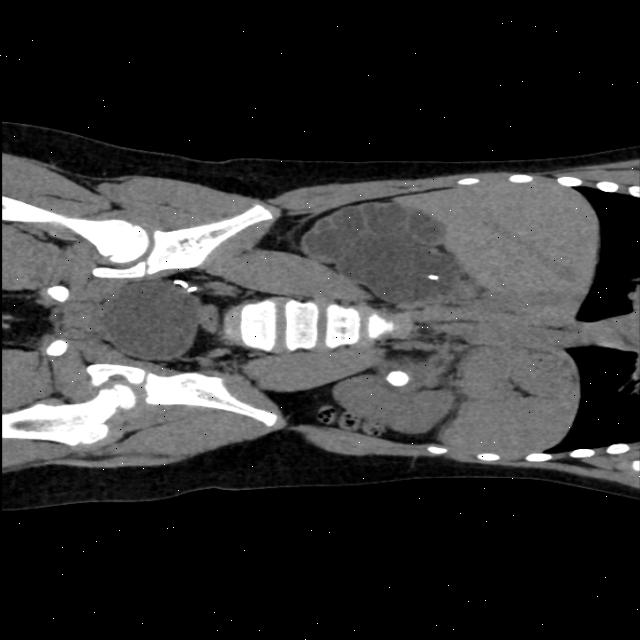kidneystone: (386, 371, 408, 386), (427, 274, 439, 281)
